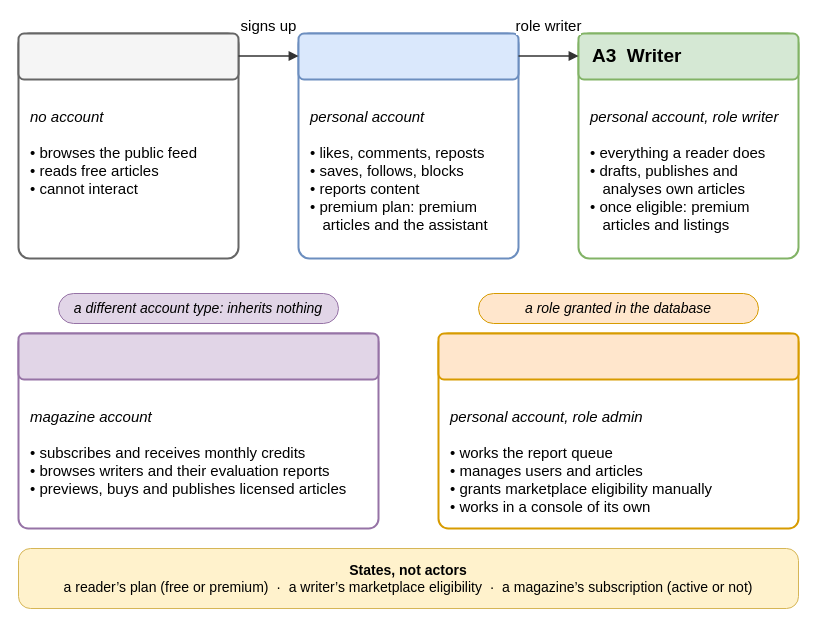
This 816x626 diagram has some shape labels left out. Each missing label, with the centre of its shape:
A1 Visitor: the point at 128,56
A2 Reader: the point at 408,56
A4 Magazine: the point at 198,356
A5 Administrator: the point at 618,356
